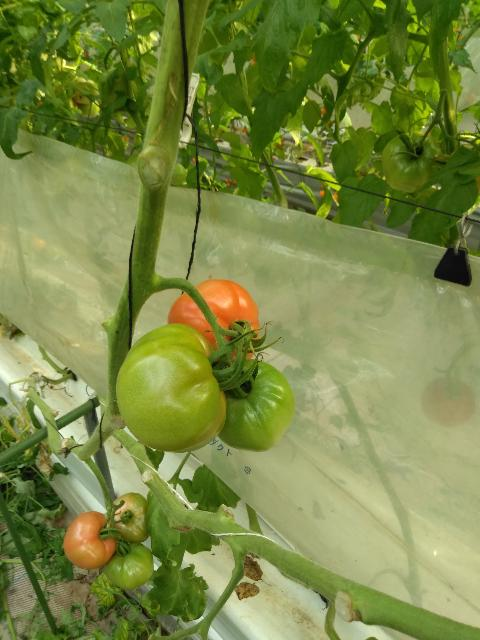b_green: (116, 322, 227, 453), (218, 359, 295, 452), (382, 131, 444, 193), (104, 540, 154, 590)
b_half_ripened: (167, 280, 260, 361), (63, 511, 119, 570), (108, 492, 152, 543)
